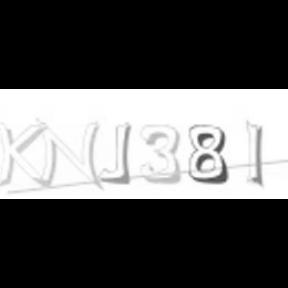3: (140, 122, 182, 186)
8: (188, 124, 228, 184), (244, 117, 268, 189)
J: (99, 120, 133, 184)
K: (0, 120, 46, 194)
N: (34, 115, 106, 191)
